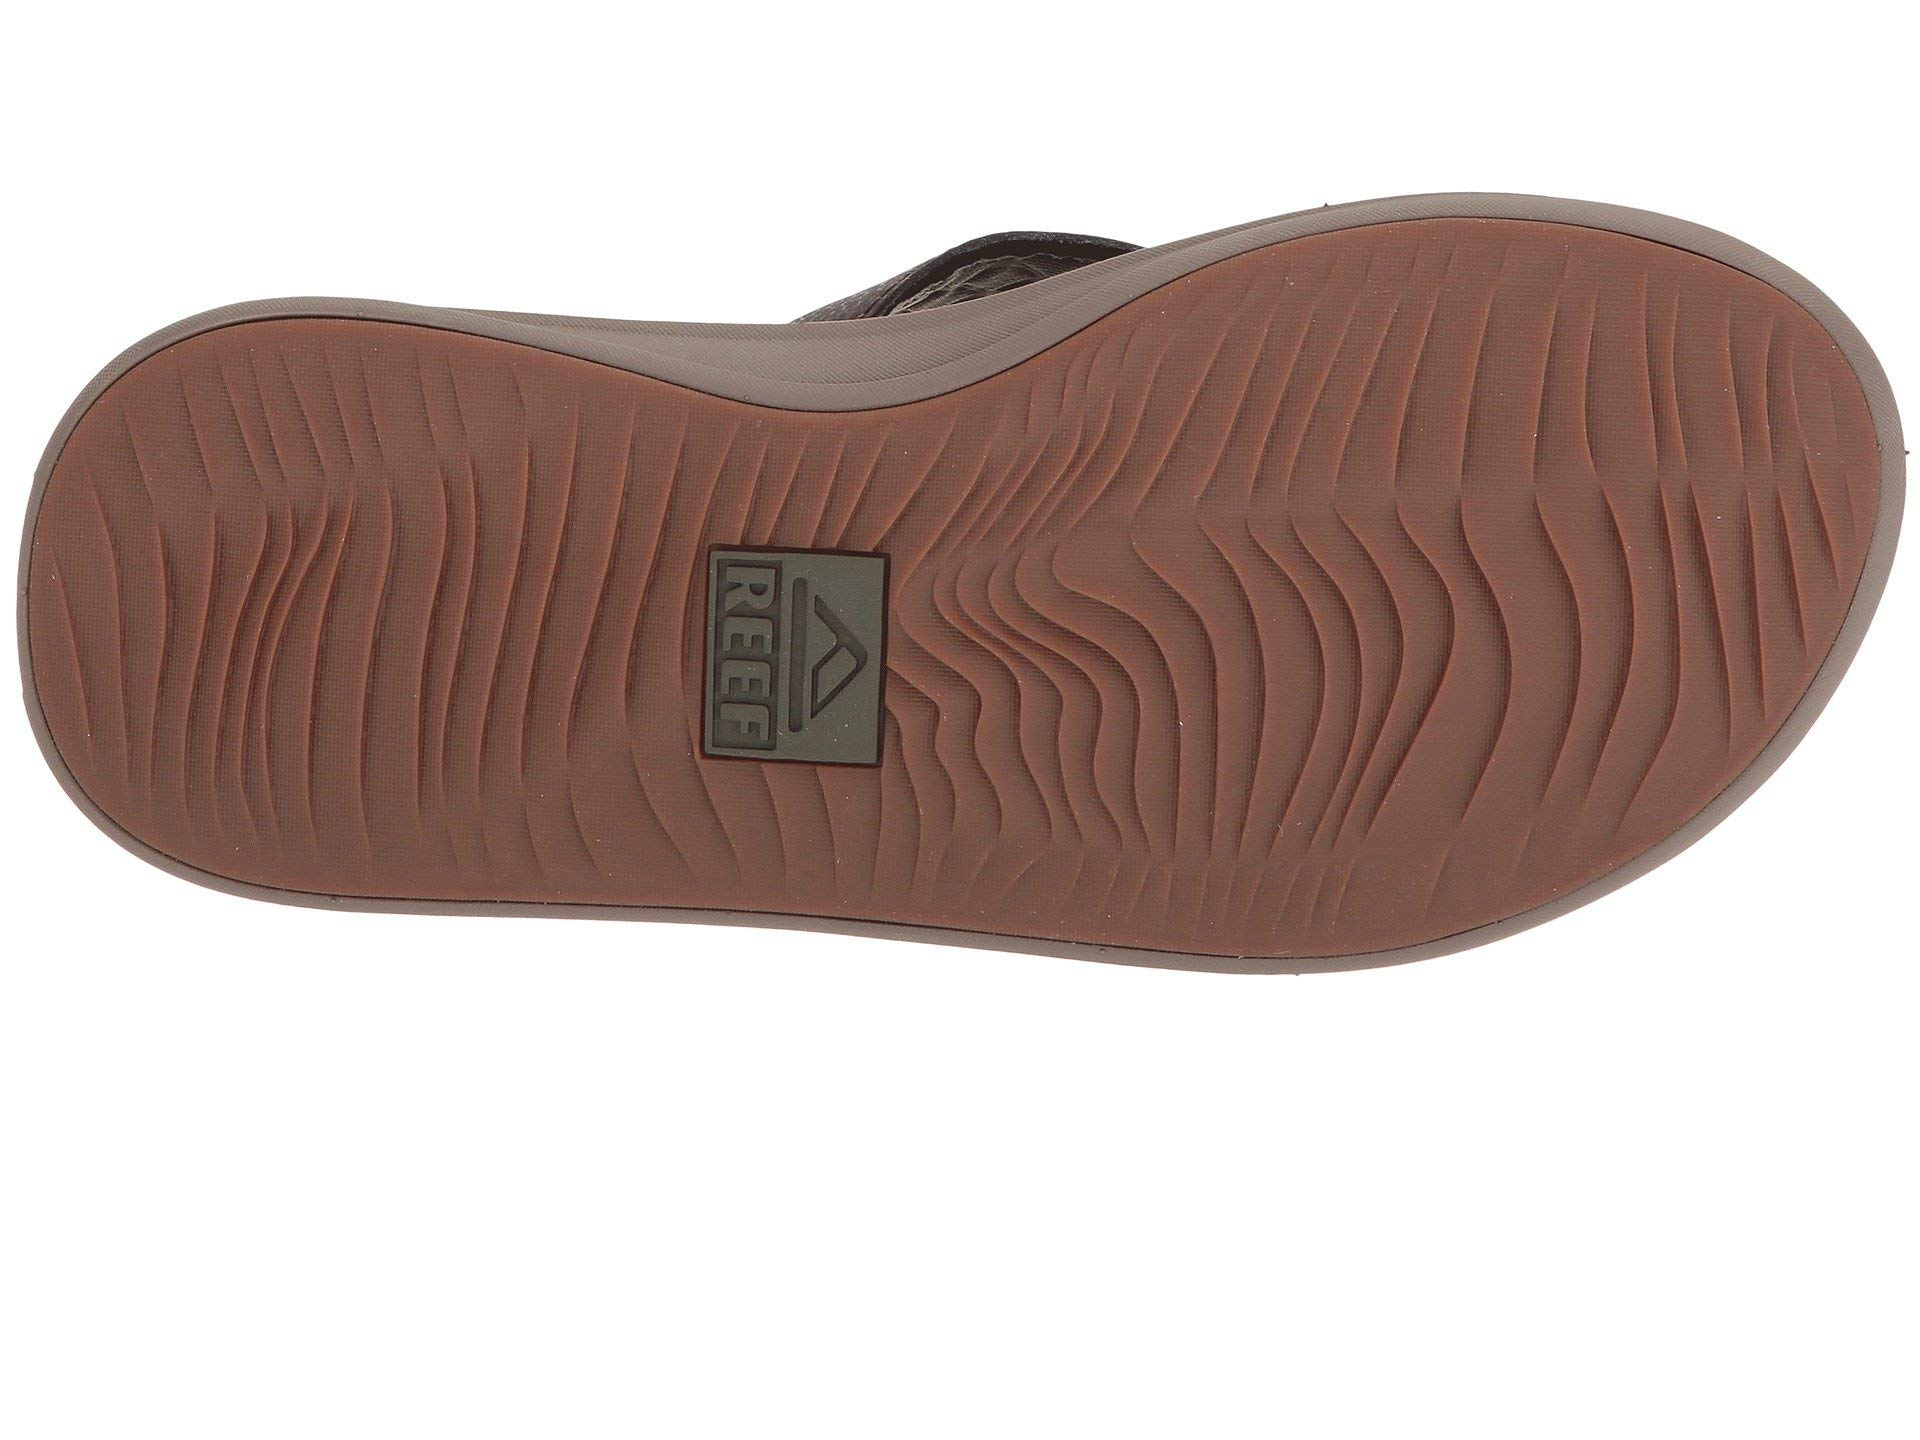line: (609, 467, 1048, 812)
quad: (609, 467, 1048, 812)
text: (609, 467, 1048, 812)
